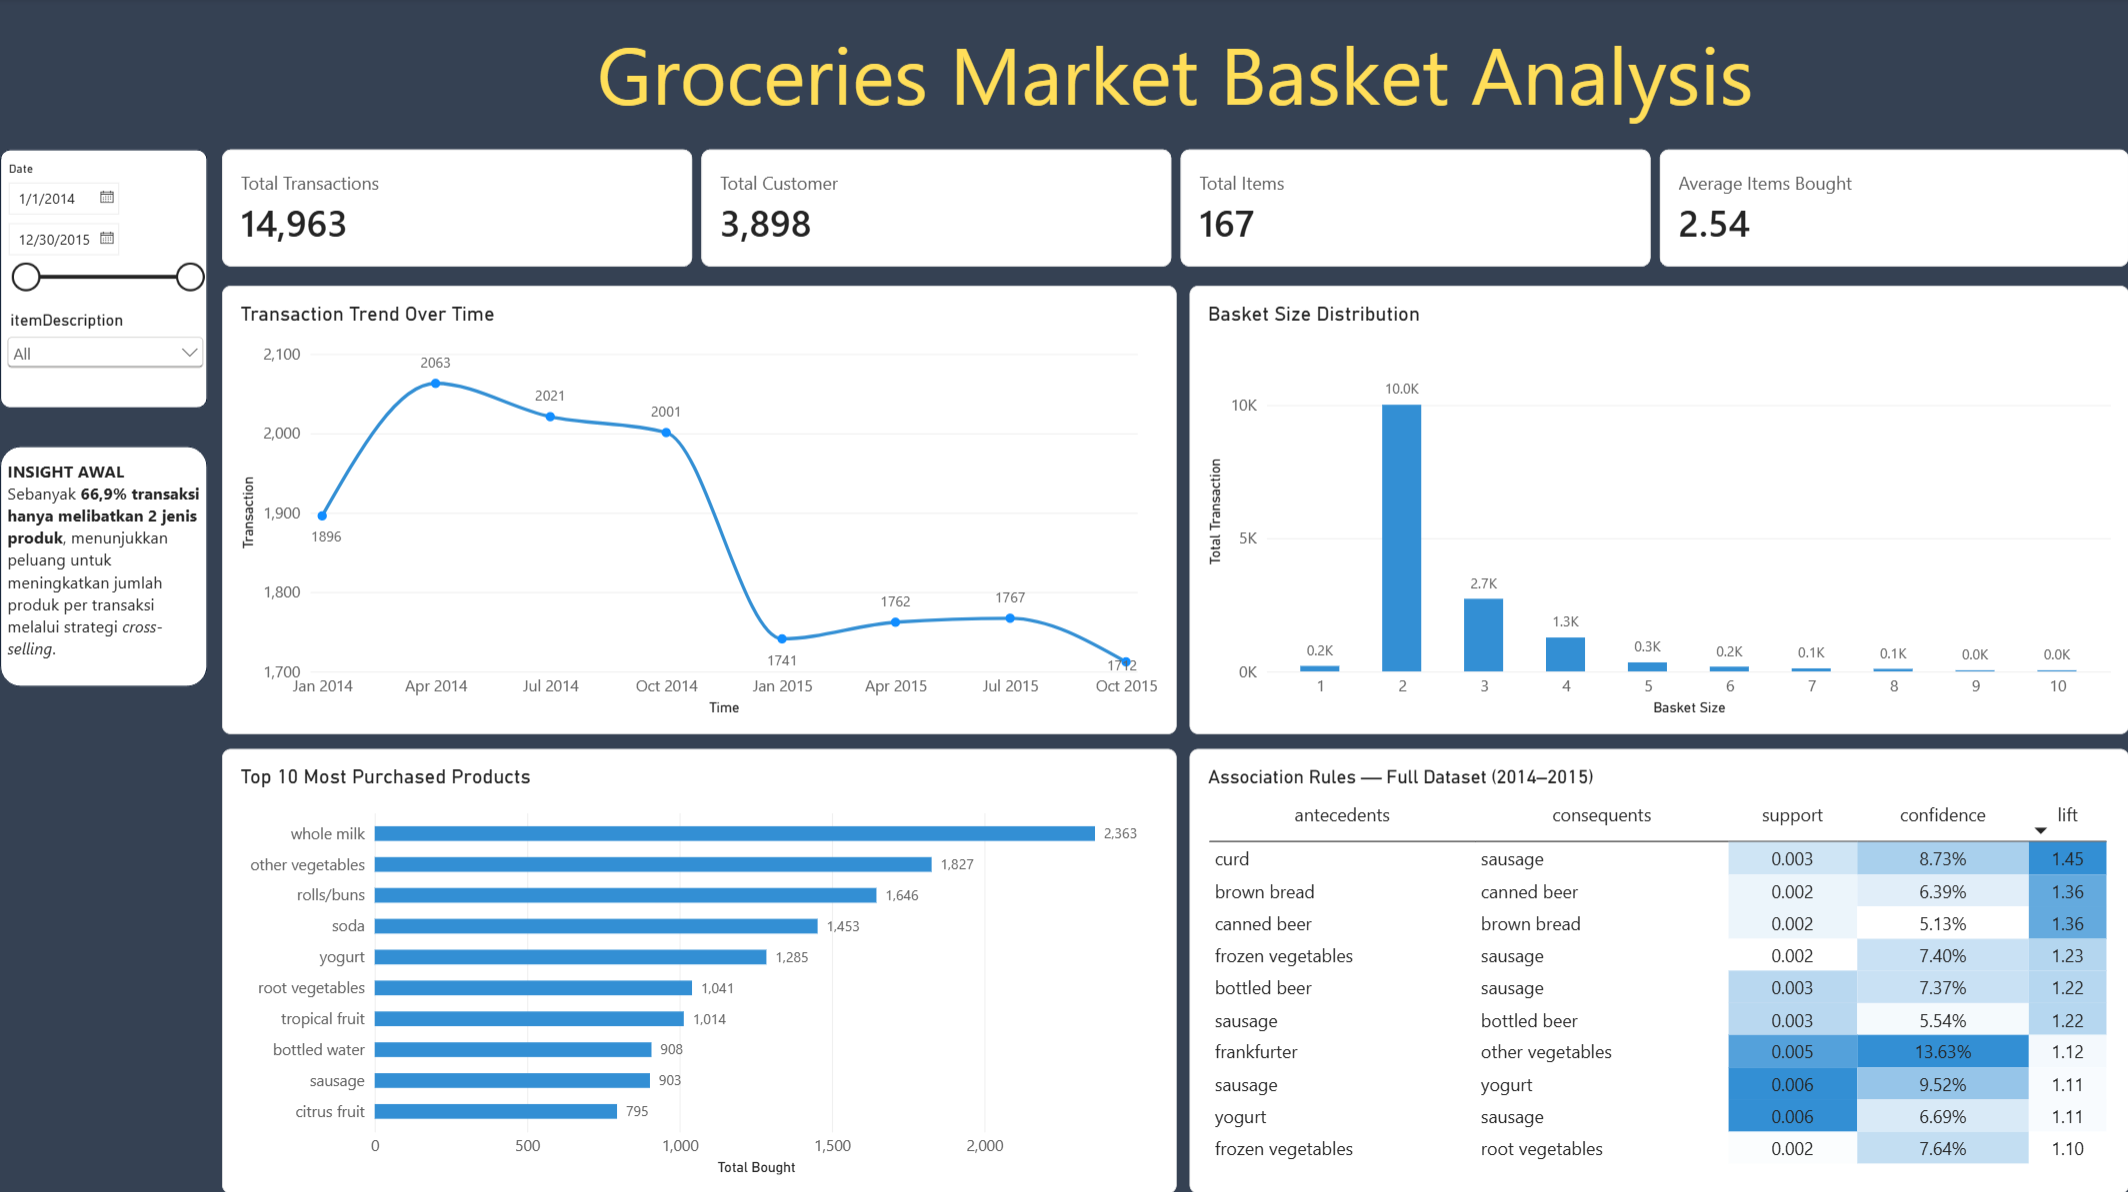

Layout of this report page (visuals, bound fields, positions):
{"tool":"powerbi","page":{"name":"Page 1","canvas":[1920,1080],"ordinal":0},"visuals":[{"type":"cardVisual","fields":{"Data":["Count(clean_dat_MBA.Transaction_ID)","Count(clean_dat_MBA.Member_number)","Count(clean_dat_MBA.itemDescription)","apriori.Average Basket Size"]},"box":[200.3,136.7,1720.2,106.9],"z":0},{"type":"lineChart","title":"Transaction Trend Over Time","fields":{"Category":["clean_dat_MBA.Date.Variation.Date Hierarchy.Year","clean_dat_MBA.Date.Variation.Date Hierarchy.Quarter","clean_dat_MBA.Date.Variation.Date Hierarchy.Month","clean_dat_MBA.Date.Variation.Date Hierarchy.Day"],"Y":["Count(clean_dat_MBA.Transaction_ID)"]},"box":[199.9,259,860.4,405],"z":1000},{"type":"clusteredColumnChart","title":"Basket Size Distribution","fields":{"Category":["Basket_Size.Jumlah_Produk"],"Y":["clean_dat_MBA.Jumlah Transaksi Filtered"]},"box":[1072.4,259,848.2,405],"z":2000},{"type":"clusteredBarChart","title":"Top 10 Most Purchased Products","fields":{"Category":["clean_dat_MBA.itemDescription"],"Y":["Count(clean_dat_MBA.Transaction_ID)"]},"box":[199.9,677.9,860.4,401.5],"z":3000},{"type":"tableEx","title":"Association Rules — Full Dataset (2014–2015)","fields":{"Values":["association.antecedents","association.consequents","association.support","association.confidence","association.lift"]},"box":[1072.4,677.9,848.2,401.5],"z":4000},{"type":"shape","box":[0,136.7,187.1,233.8],"z":5000},{"type":"slicer","fields":{"Values":["clean_dat_MBA.Date"]},"box":[0,147.5,187.7,135.6],"z":6000},{"type":"slicer","fields":{"Values":["clean_dat_MBA.itemDescription"]},"box":[0,283.6,187.1,81.5],"z":7000},{"type":"textbox","box":[0,0,1920.5,137.3],"z":8000},{"type":"shape","box":[0.3,404.4,187.1,217.2],"z":9000},{"type":"textbox","box":[6.3,416.5,175,193.1],"z":10000}]}

Visuals, with their boxes in screenshot pixels (x1, y1, x2, y2), scaled from the page's 1920x1080 canvas onto the 2128x1192 screenshot:
cardVisual - Count(clean_dat_MBA.Transaction_ID) x Count(clean_dat_MBA.Member_number): BBox(222, 151, 2127, 269)
"Transaction Trend Over Time" lineChart: BBox(222, 286, 1175, 733)
"Basket Size Distribution" clusteredColumnChart: BBox(1189, 286, 2127, 733)
"Top 10 Most Purchased Products" clusteredBarChart: BBox(222, 748, 1175, 1191)
"Association Rules — Full Dataset (2014–2015)" tableEx: BBox(1189, 748, 2127, 1191)
shape: BBox(0, 151, 207, 409)
slicer - clean_dat_MBA.Date: BBox(0, 163, 208, 312)
slicer - clean_dat_MBA.itemDescription: BBox(0, 313, 207, 403)
textbox: BBox(0, 0, 2127, 152)
shape: BBox(0, 446, 208, 686)
textbox: BBox(7, 460, 201, 673)
